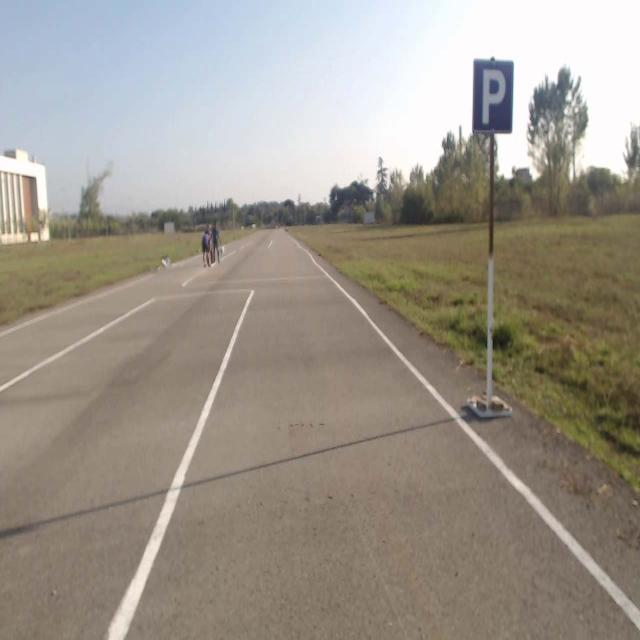park: (473, 59, 513, 133)
